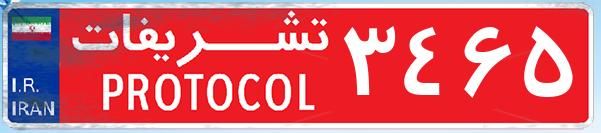3: (340, 20, 400, 115)
4: (400, 20, 460, 115)
5: (520, 20, 580, 115)
6: (460, 20, 520, 115)
تشریفات: (60, 8, 340, 125)
